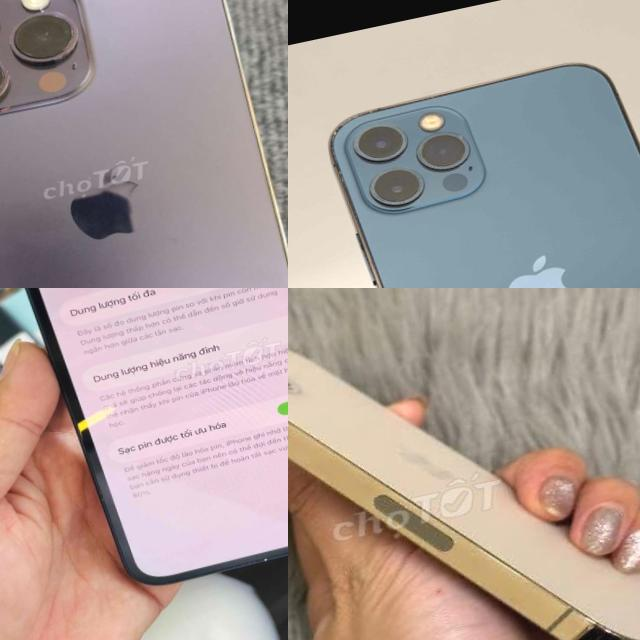gen_12_13: (288, 288, 640, 640), (0, 288, 288, 625), (319, 38, 640, 288)
gen_14: (0, 0, 288, 288)
